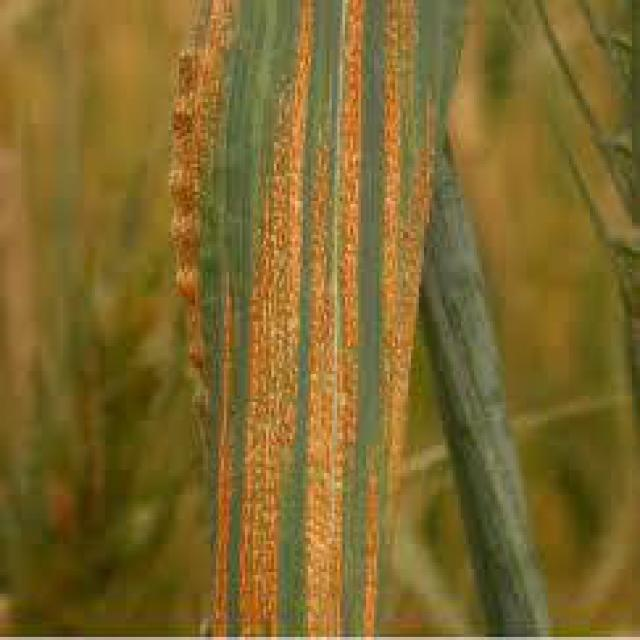wheat-yellowrust: (239, 0, 317, 640), (300, 2, 363, 640), (380, 0, 441, 544), (169, 0, 242, 404), (212, 271, 240, 638), (364, 434, 380, 638)
